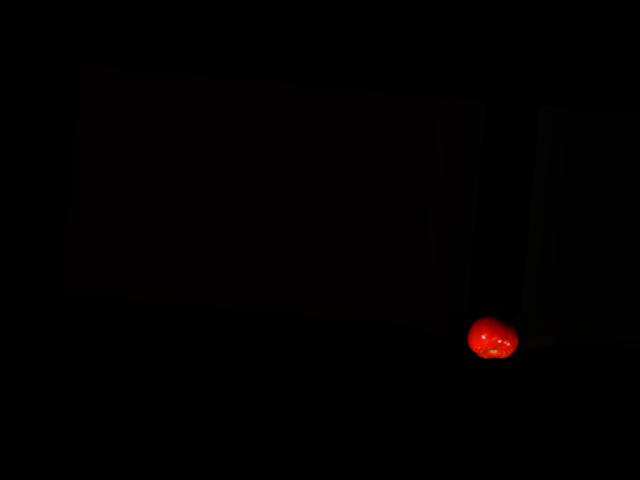tomato: (464, 313, 520, 361)
